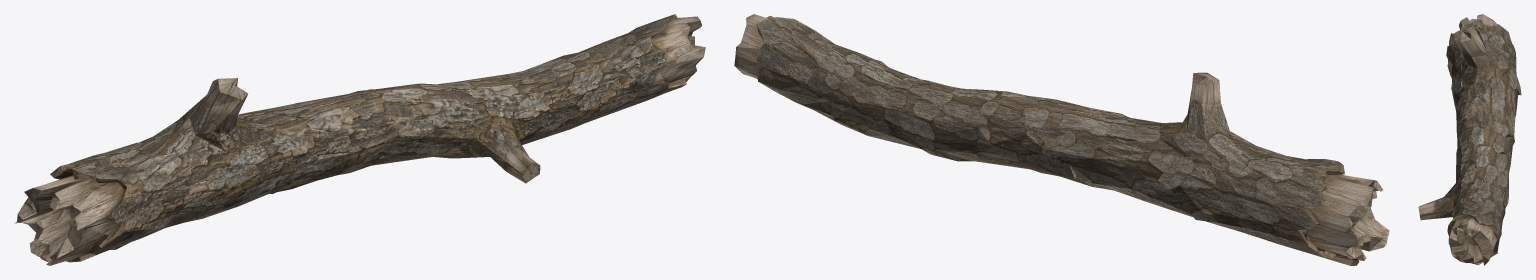
File: co_fallen_log.glb
The picture shows the model from 3 angles, left to right: view 1: azimuth 30°, elevation 25°; view 2: azimuth 150°, elevation 25°; view 3: azimuth 270°, elevation 25°; orthographic projection. The views are drawn at different scales.
Visible parts, largest first — view 1: output_unwrapped; view 2: output_unwrapped; view 3: output_unwrapped.
Boxes of the visible parts, bbox=[...] form: output_unwrapped: bbox=[14, 14, 705, 265]; output_unwrapped: bbox=[734, 14, 1389, 265]; output_unwrapped: bbox=[1418, 14, 1521, 265].
Bounding box in the file's own units: 1.9 × 0.4052 × 0.3615.
Materials: 1 (1 with a texture image).
